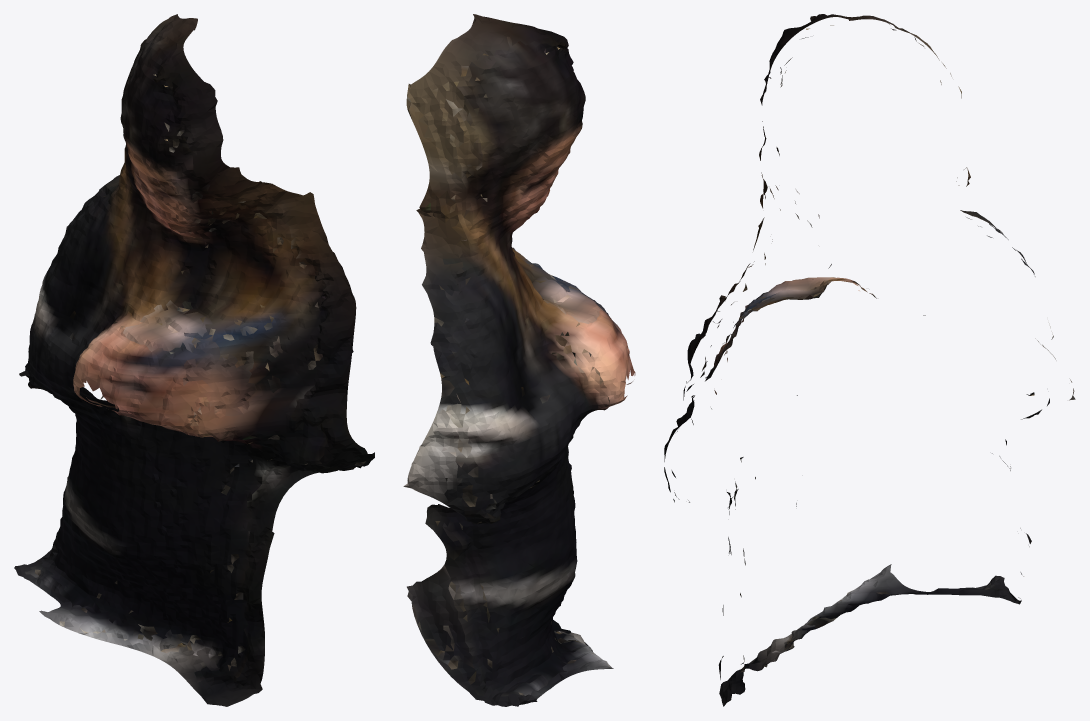
3 views of the same model, side by side, from view 1: azimuth 30°, elevation 25°; view 2: azimuth 150°, elevation 25°; view 3: azimuth 270°, elevation 25° (orthographic). The views are drawn at different scales.
Size of the model in its own units: 0.3543 by 0.9033 by 0.486.
1 material, 1 textured.
